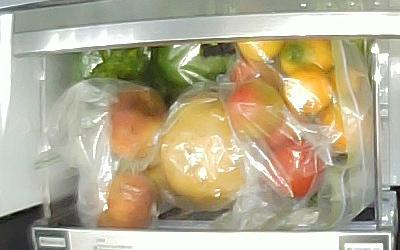peach_vinyl: (107, 87, 166, 159), (99, 172, 158, 227)
pear_vinyl: (161, 92, 245, 209)
tangerine_vinyl: (282, 66, 332, 114), (280, 38, 333, 73), (319, 103, 349, 154), (235, 41, 286, 62)
tomato_vinyl: (266, 138, 325, 199), (229, 83, 283, 141), (229, 61, 280, 92)
